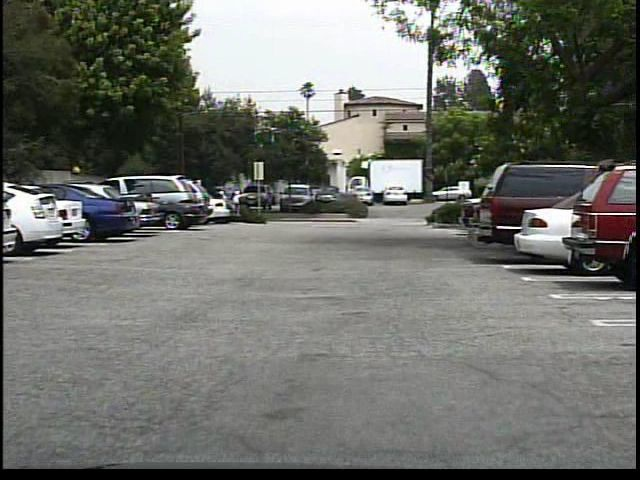person: (214, 187, 231, 219), (228, 192, 242, 221), (225, 190, 237, 219)
